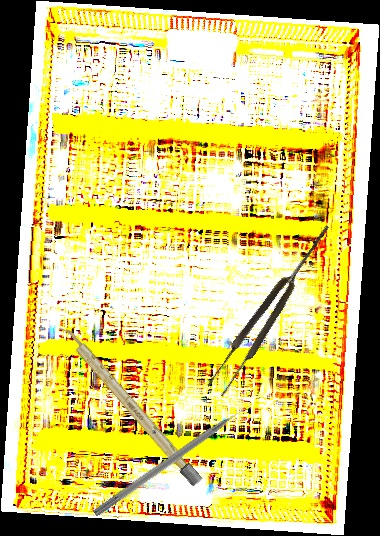Pusher: (92, 399, 256, 520)
Scalpel Handle: (56, 321, 204, 488)
Tissue Forceps: (203, 219, 340, 399)
